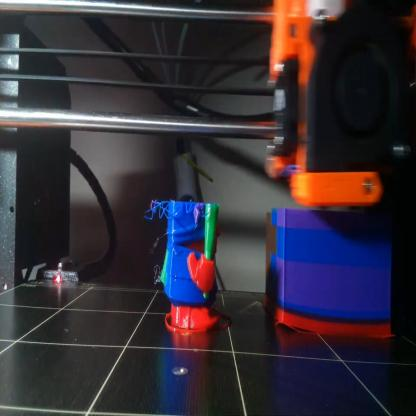fail: (145, 200, 199, 224), (153, 267, 163, 290)
